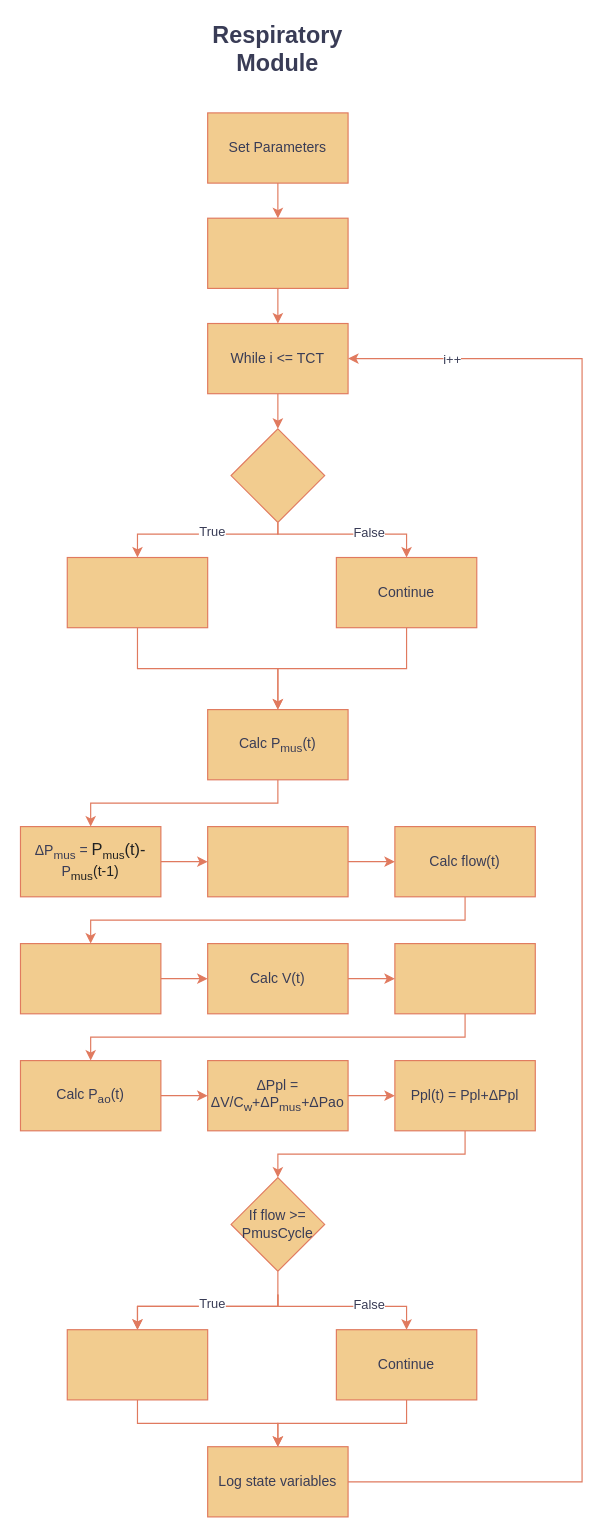
Some shapes in this 612 by 1537 pixel diagram are drawn without their labels. Here are the shapes that lost their labels. From the top down, the centre of each, then its label:
At (x=277, y=252): "Set Inputs".
At (x=277, y=475): "If Ppl <= PSTrigger".
At (x=137, y=592): "Set PSTrigger & log triggertime".
At (x=277, y=861): "Calc P vent (t)".
At (x=90, y=978): "ΔV = flow*Δt".
At (x=464, y=978): "ΔP ao = Δt/C rs".
At (x=137, y=1364): "Cycle P mus & log cycletime".
